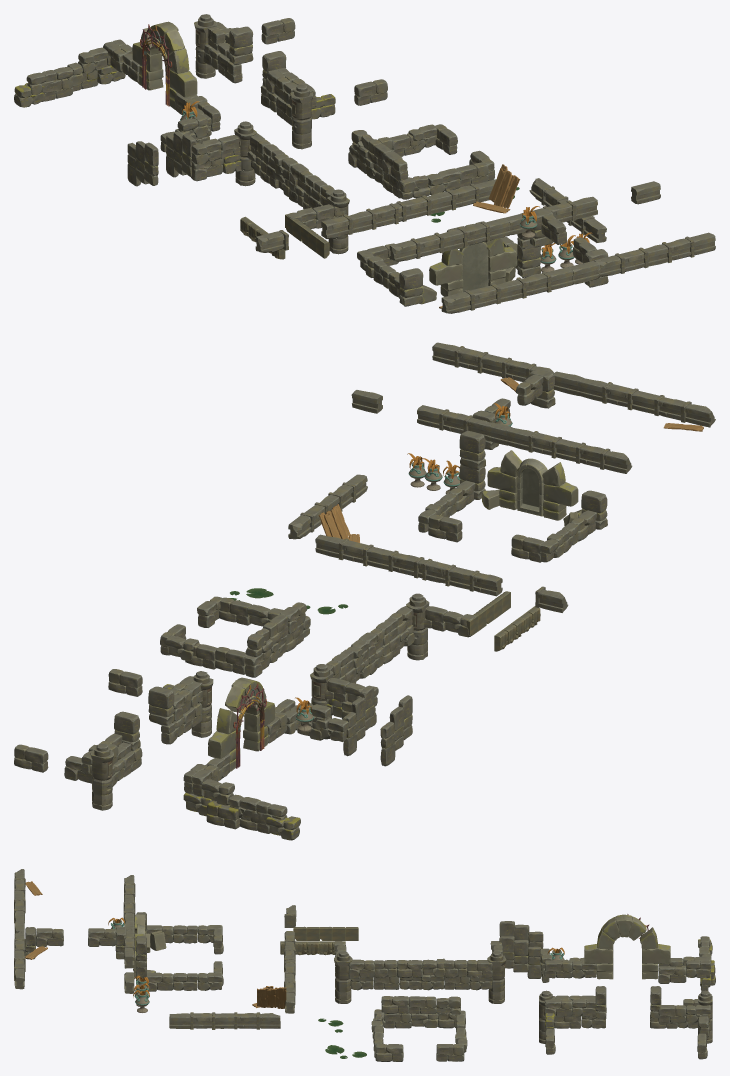
The model's file is Fortress_Part3_Blender.fbx.
The picture shows the model from 3 angles, top to bottom: view 1: azimuth 30°, elevation 25°; view 2: azimuth 150°, elevation 25°; view 3: azimuth 270°, elevation 25°; orthographic projection. The views are drawn at different scales.
Visible parts, largest first — view 1: arcStoneWithMoss1_17; view 2: arcStoneWithMoss1_17; view 3: arcStoneWithMoss1_17.
Part boxes in pixels (x1,y1,x2,y2): arcStoneWithMoss1_17: [14, 14, 715, 313]; arcStoneWithMoss1_17: [14, 342, 715, 840]; arcStoneWithMoss1_17: [14, 869, 715, 1061].
Bounding box in the file's own units: 2625 × 1126 × 6400.
